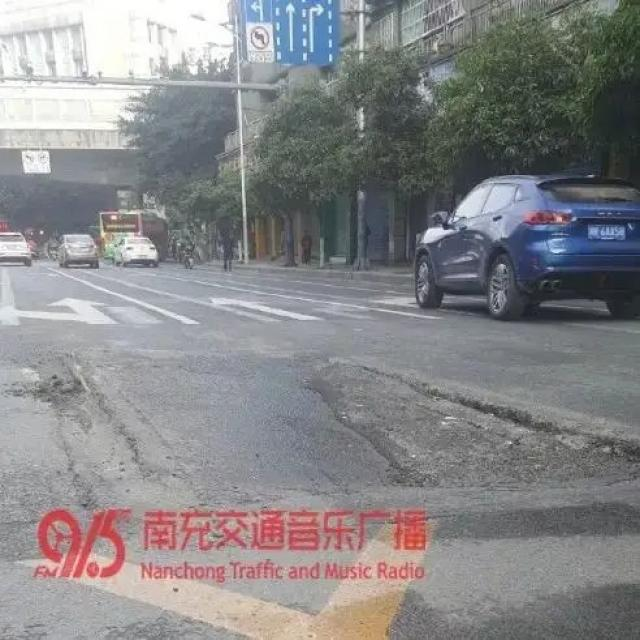Pothole: (296, 358, 638, 508), (23, 350, 190, 519)
